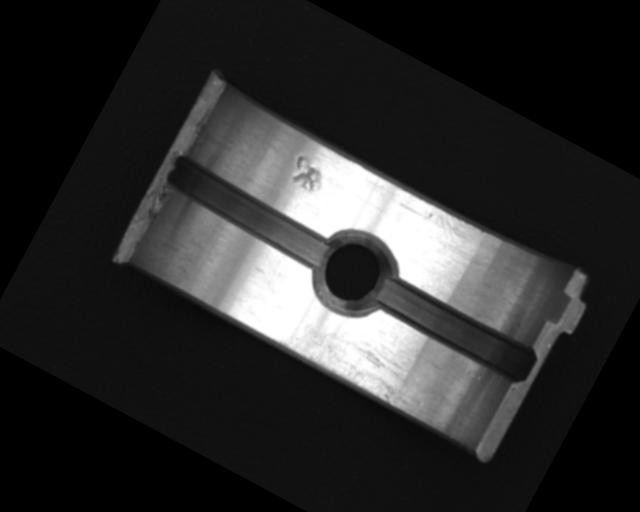bruise: (284, 153, 332, 197)
gap: (157, 147, 341, 274), (368, 270, 540, 387)
hole: (298, 216, 408, 329)
scratch: (269, 297, 440, 420)
